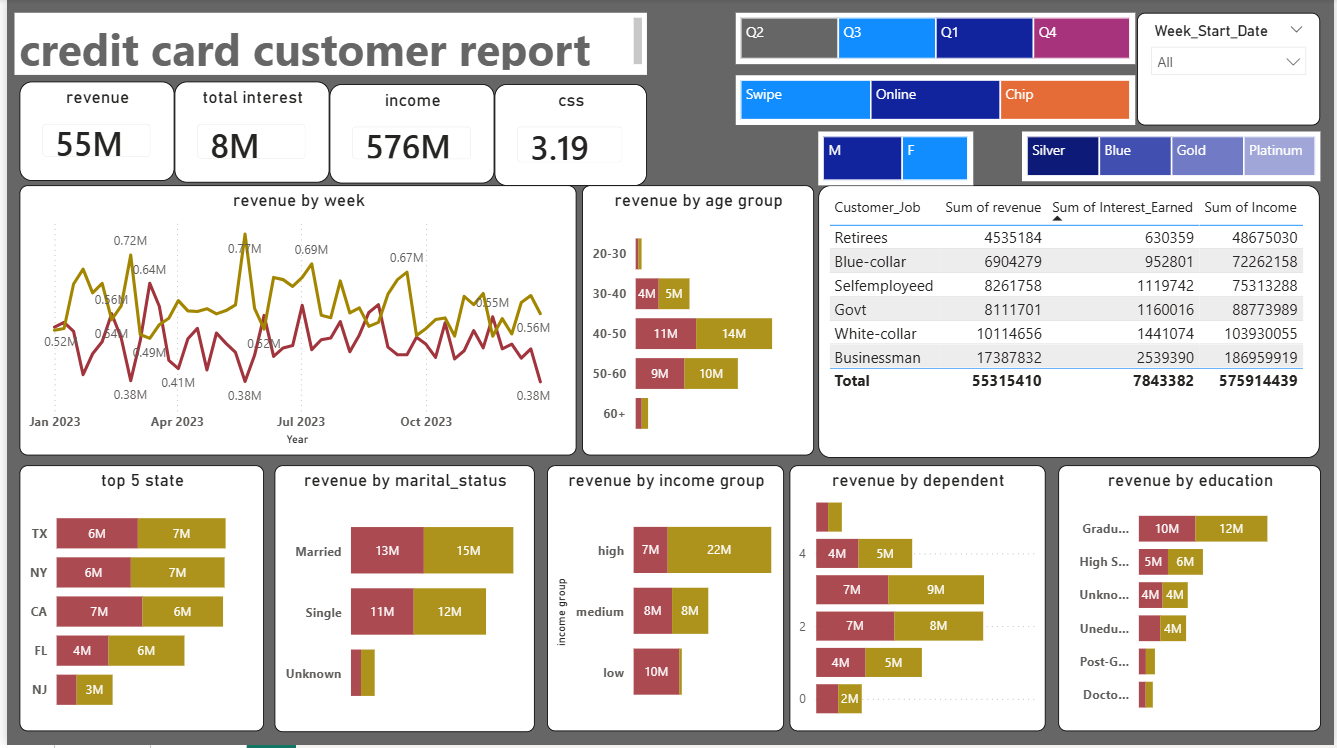

The dashboard page shown, as its layout file describes it:
{"tool":"powerbi","page":{"name":"Page 3","canvas":[1280,720],"ordinal":2},"visuals":[{"type":"textbox","box":[6.9,13.7,610.6,60.4],"z":0},{"type":"tableEx","fields":{"Values":["customer (1).Customer_Job","Sum(credit_card (1).revenue)","Sum(credit_card (1).Interest_Earned)","Sum(customer (1).Income)"]},"box":[783.5,179.8,484.4,263.5],"z":1000},{"type":"cardVisual","title":"revenue","fields":{"Data":["Sum(credit_card (1).revenue)"]},"box":[12.3,79.6,149.6,96.1],"z":2000},{"type":"cardVisual","title":"income","fields":{"Data":["Sum(customer (1).Income)"]},"box":[311.5,82.3,159.2,96.1],"z":3000},{"type":"cardVisual","title":"total interest","fields":{"Data":["Sum(credit_card (1).Interest_Earned)"]},"box":[161.9,79.6,149.6,97.4],"z":4000},{"type":"cardVisual","title":"css","fields":{"Data":["Avg(customer (1).Cust_Satisfaction_Score)"]},"box":[470.7,82.3,146.8,98.8],"z":5000},{"type":"slicer","fields":{"Values":["credit_card (1).Week_Start_Date"]},"box":[1090.9,13.7,177,108.4],"z":6000},{"type":"treemap","fields":{"Group":["credit_card (1).Qtr"],"Values":["CountNonNull(credit_card (1).Client_Num)"]},"box":[703.9,13.7,385.6,49.4],"z":7000},{"type":"treemap","fields":{"Group":["credit_card (1).Card_Category"],"Values":["Avg(credit_card (1).Client_Num)"]},"box":[979.8,127.6,288.2,48],"z":8000},{"type":"barChart","title":" revenue by income group","fields":{"Y":["Sum(credit_card (1).revenue)"],"Category":["customer (1).income group"],"Series":["customer (1).Gender"]},"box":[521.4,450.1,229.2,256.6],"z":9000},{"type":"lineChart","title":"revenue by week","fields":{"Y":["Sum(credit_card (1).revenue)"],"Series":["customer (1).Gender"],"Category":["credit_card (1).Week_Start_Date.Variation.Date Hierarchy.Year","credit_card (1).Week_Start_Date.Variation.Date Hierarchy.Quarter","credit_card (1).Week_Start_Date.Variation.Date Hierarchy.Month","credit_card (1).Week_Start_Date.Variation.Date Hierarchy.Day"]},"box":[12.3,179.8,537.9,260.7],"z":10000},{"type":"treemap","fields":{"Group":["customer (1).Gender"],"Values":["Sum(credit_card (1).revenue)"]},"box":[783.5,127.6,149.6,52.1],"z":11000},{"type":"barChart","title":" revenue by age group","fields":{"Y":["Sum(credit_card (1).revenue)"],"Category":["customer (1).age group"],"Series":["customer (1).Gender"]},"box":[554.4,179.8,223.7,260.7],"z":12000},{"type":"barChart","title":" revenue by dependent","fields":{"Y":["Sum(credit_card (1).revenue)"],"Category":["customer (1).Dependent_Count"],"Series":["customer (1).Gender"]},"box":[754.7,450.1,247,256.6],"z":13000},{"type":"barChart","title":" revenue by education","fields":{"Y":["Sum(credit_card (1).revenue)"],"Category":["customer (1).Education_Level"],"Series":["customer (1).Gender"]},"box":[1014.1,450.1,253.9,256.6],"z":14000},{"type":"barChart","title":" top 5 state","fields":{"Y":["Sum(credit_card (1).revenue)"],"Category":["customer (1).state_cd"],"Series":["customer (1).Gender"]},"box":[12.3,450.1,236,256.6],"z":15000},{"type":"barChart","title":" revenue by marital_status","fields":{"Y":["Sum(credit_card (1).revenue)"],"Category":["customer (1).Marital_Status"],"Series":["customer (1).Gender"]},"box":[258,450.1,251.1,258],"z":16000},{"type":"treemap","fields":{"Values":["Avg(credit_card (1).Client_Num)"],"Group":["credit_card (1).Use Chip"]},"box":[703.9,74.1,385.6,48],"z":17000}]}

Visuals, with their boxes in screenshot pixels (x1, y1, x2, y2), scaled from the page's 1280x720 canvas onto the 1337x748 screenshot:
textbox: x1=7, y1=14, x2=645, y2=77
tableEx - customer (1).Customer_Job x Sum(credit_card (1).revenue): x1=818, y1=187, x2=1324, y2=461
"revenue" cardVisual: x1=13, y1=83, x2=169, y2=183
"income" cardVisual: x1=325, y1=86, x2=492, y2=185
"total interest" cardVisual: x1=169, y1=83, x2=325, y2=184
"css" cardVisual: x1=492, y1=86, x2=645, y2=188
slicer - credit_card (1).Week_Start_Date: x1=1139, y1=14, x2=1324, y2=127
treemap - credit_card (1).Qtr x CountNonNull(credit_card (1).Client_Num): x1=735, y1=14, x2=1138, y2=66
treemap - credit_card (1).Card_Category x Avg(credit_card (1).Client_Num): x1=1023, y1=133, x2=1324, y2=182
" revenue by income group" barChart: x1=545, y1=468, x2=784, y2=734
"revenue by week" lineChart: x1=13, y1=187, x2=575, y2=458
treemap - customer (1).Gender x Sum(credit_card (1).revenue): x1=818, y1=133, x2=975, y2=187
" revenue by age group" barChart: x1=579, y1=187, x2=813, y2=458
" revenue by dependent" barChart: x1=788, y1=468, x2=1046, y2=734
" revenue by education" barChart: x1=1059, y1=468, x2=1324, y2=734
" top 5 state" barChart: x1=13, y1=468, x2=259, y2=734
" revenue by marital_status" barChart: x1=269, y1=468, x2=532, y2=736
treemap - Avg(credit_card (1).Client_Num) x credit_card (1).Use Chip: x1=735, y1=77, x2=1138, y2=127
